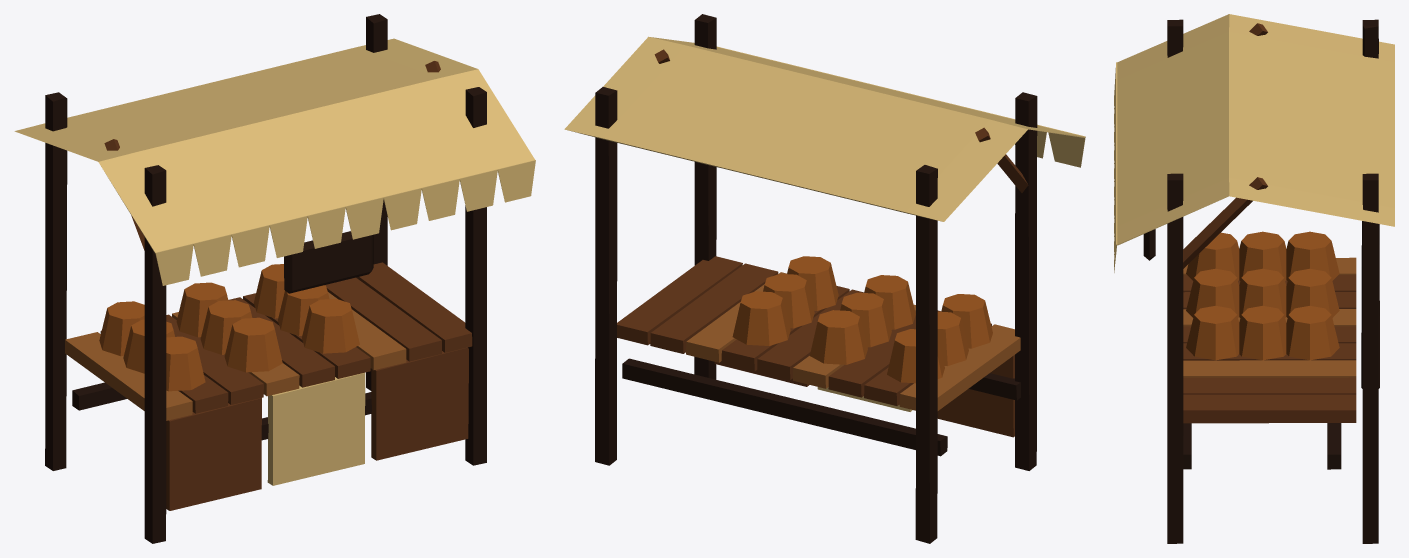
Rendered from Banca_do_padeiro_LOD1.fbx.
The picture shows the model from 3 angles, left to right: view 1: azimuth 30°, elevation 25°; view 2: azimuth 150°, elevation 25°; view 3: azimuth 270°, elevation 25°; orthographic projection.
Visible parts, largest first — view 1: Banca_do_padeiro_LOD1; view 2: Banca_do_padeiro_LOD1; view 3: Banca_do_padeiro_LOD1.
Boxes of the visible parts, <box> form: Banca_do_padeiro_LOD1: <box>14,14,535,543</box>; Banca_do_padeiro_LOD1: <box>564,14,1085,543</box>; Banca_do_padeiro_LOD1: <box>1114,14,1394,543</box>.
Size of the model in its own units: 320 by 299 by 208.
Materials: 1 (1 with a texture image).
